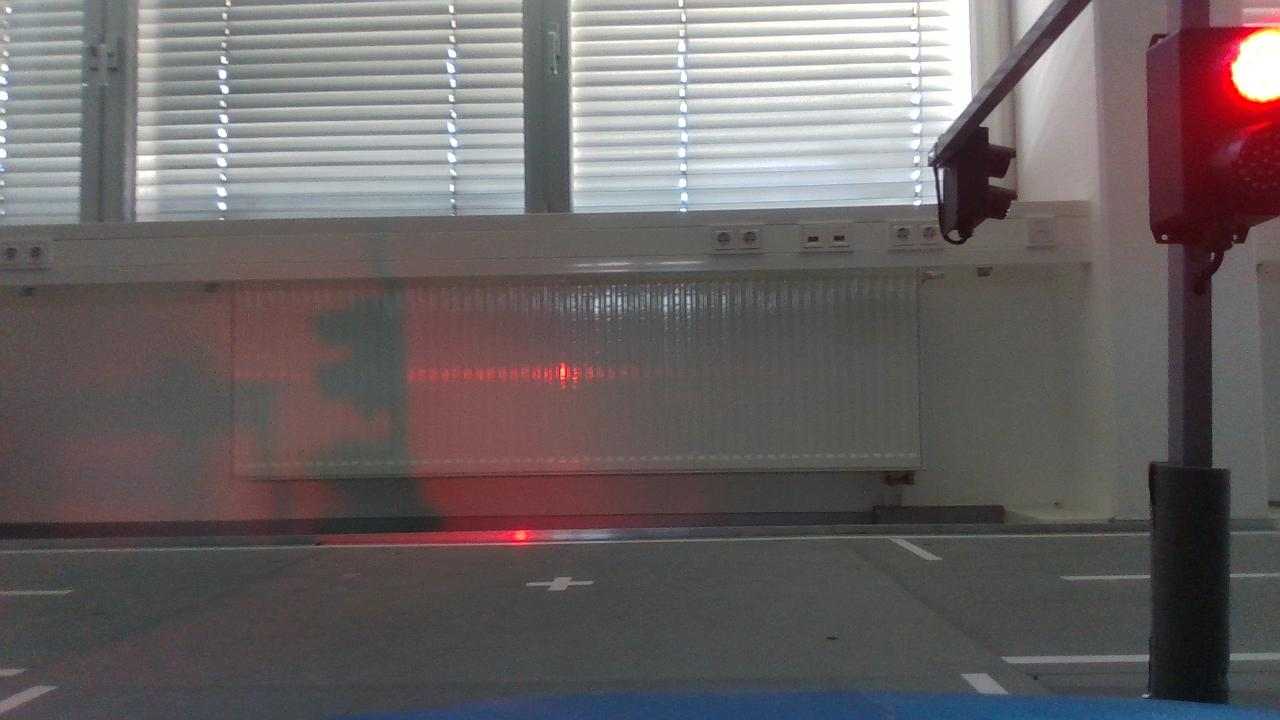traffic_light_red: (1143, 15, 1280, 258)
